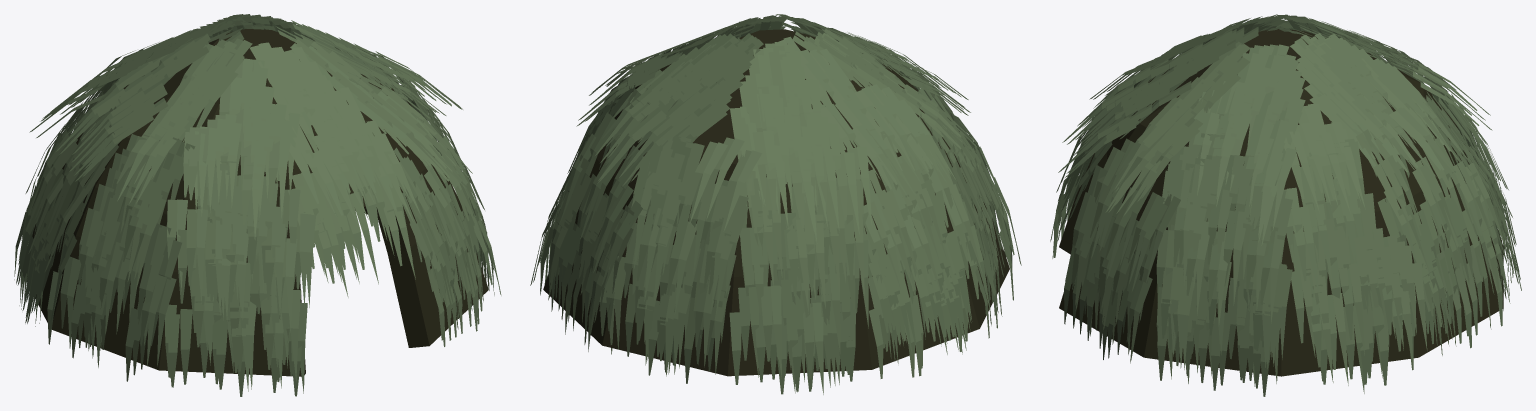
The model's file is Hut.fbx.
3 renders of one model, left to right at view 1: azimuth 30°, elevation 25°; view 2: azimuth 150°, elevation 25°; view 3: azimuth 270°, elevation 25°, orthographic.
Visible parts, largest first — view 1: Hut; view 2: Hut; view 3: Hut.
Boxes of the visible parts, x1=… form: Hut: x1=14, y1=14, x2=501, y2=396; Hut: x1=530, y1=14, x2=1021, y2=394; Hut: x1=1050, y1=14, x2=1521, y2=396.
Size of the model in its own units: 719 by 445 by 702.
